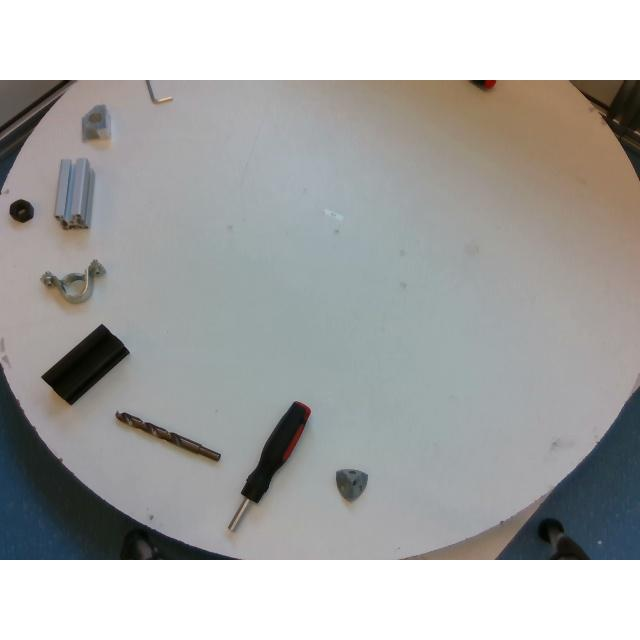Drill: (116, 412, 220, 460)
Housing: (40, 259, 104, 303)
M20: (9, 198, 33, 222)
S40_40_B: (42, 324, 128, 404)
S40_40_G: (54, 156, 94, 228)
